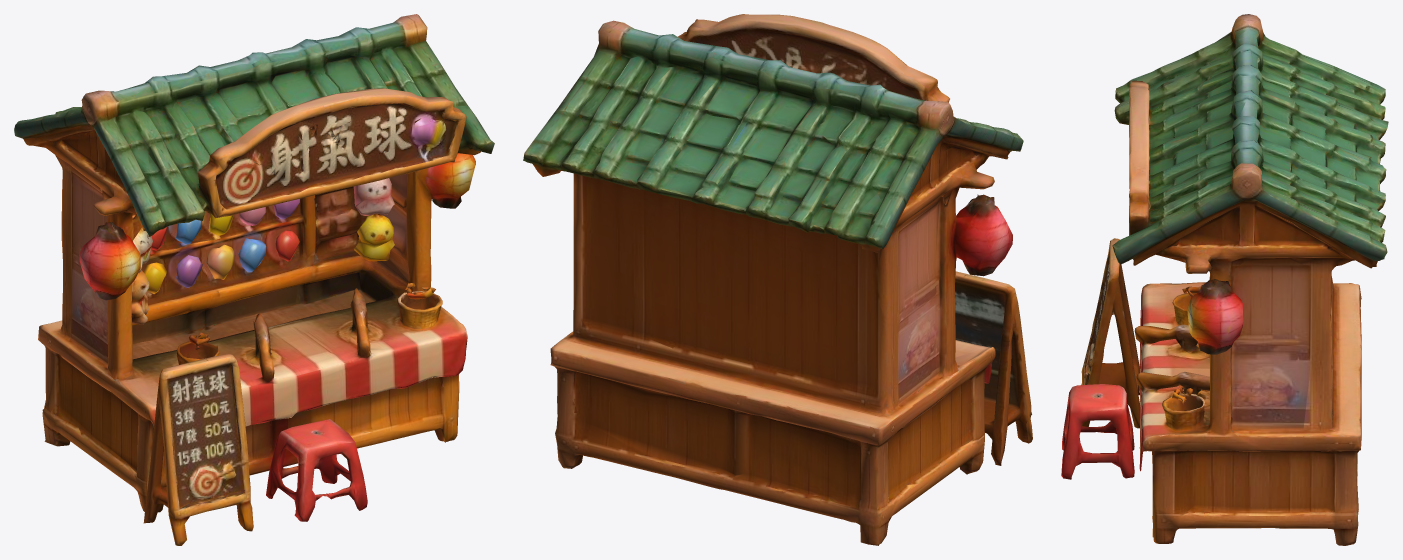
The model's file is stall-balloon.glb.
3 views of the same model, side by side, from view 1: azimuth 30°, elevation 25°; view 2: azimuth 150°, elevation 25°; view 3: azimuth 270°, elevation 25° (orthographic). The views are drawn at different scales.
Parts seen in each view (by area): view 1: tripo_node_61a85226-ef43-4415-8bb6-38802fa605db; view 2: tripo_node_61a85226-ef43-4415-8bb6-38802fa605db; view 3: tripo_node_61a85226-ef43-4415-8bb6-38802fa605db.
Boxes of the visible parts, x1,y1,x2,y2 form: tripo_node_61a85226-ef43-4415-8bb6-38802fa605db: (14, 14, 494, 545); tripo_node_61a85226-ef43-4415-8bb6-38802fa605db: (523, 14, 1032, 545); tripo_node_61a85226-ef43-4415-8bb6-38802fa605db: (1061, 14, 1388, 545).
Bounding box in the file's own units: 0.9861 × 0.9276 × 0.7197.
Materials: 1 (1 with a texture image).
